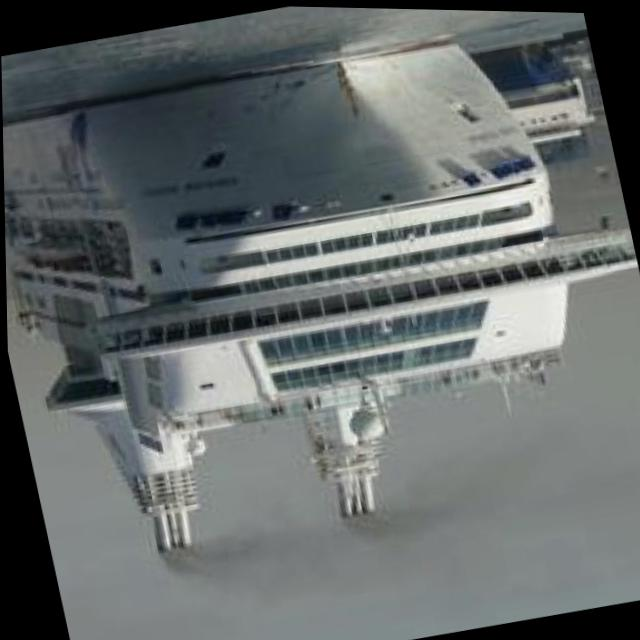ship2: (2, 30, 637, 574)
